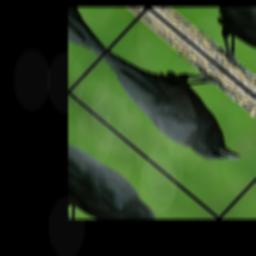Crow: (89, 13, 256, 181)
